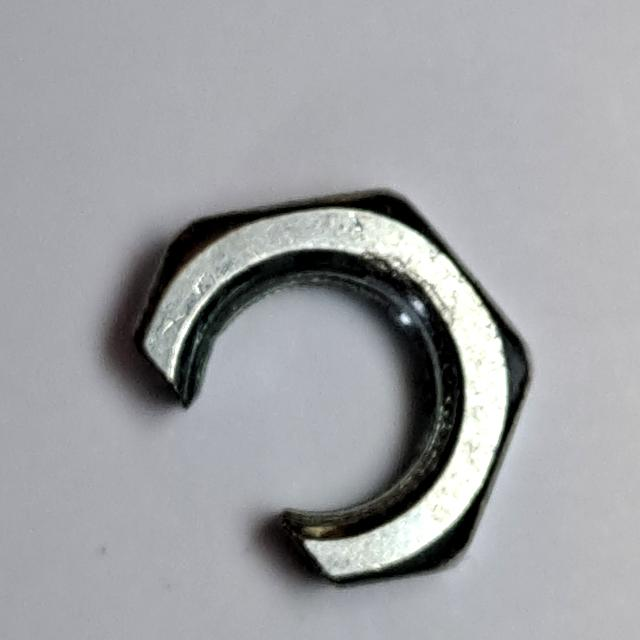Fracture: (117, 175, 542, 598)
